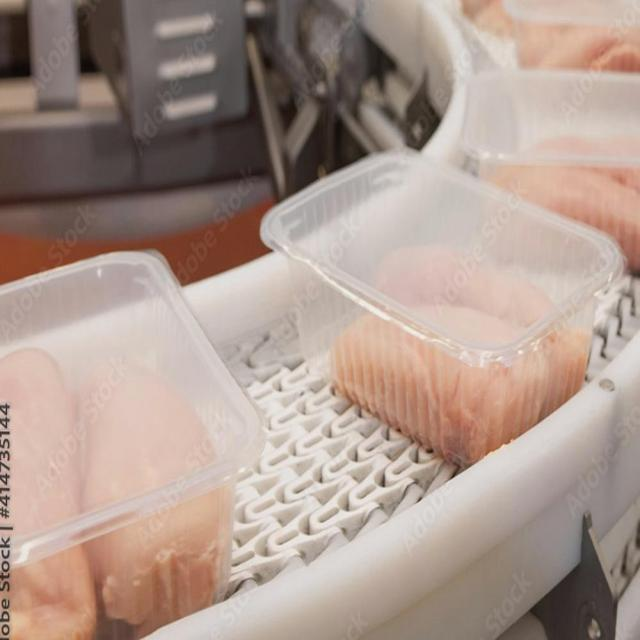food: (257, 145, 627, 468), (0, 244, 266, 636)
